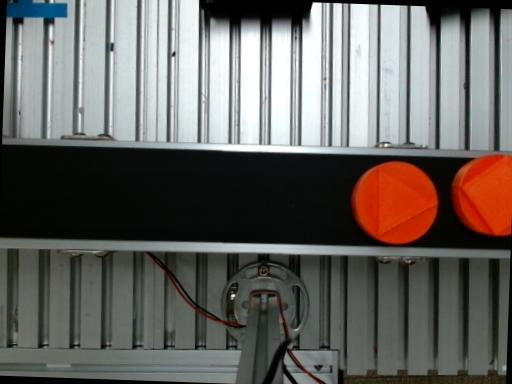Not_Square: (377, 168, 436, 236)
Orange_Waper: (351, 161, 437, 244), (450, 154, 512, 235)
